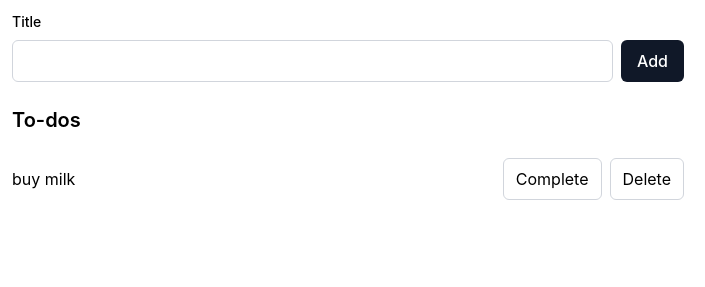
Scenario: TodoItem › reports a failed stale-id refetch without claiming the list refreshed
What coordinates should you click on to do the following:
click the button with aria-label "Delete buy milk"
I would click on:
 (647, 179)
Its box is [610,158,684,200].
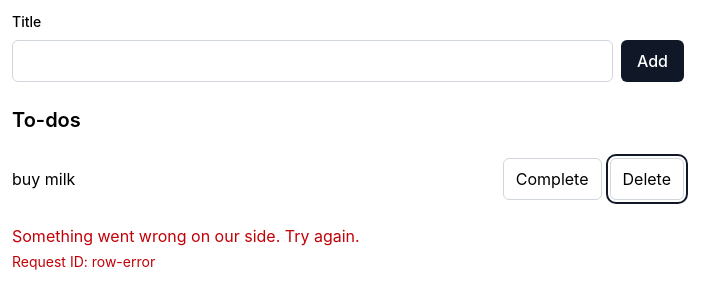
Expected: the text "buy milk" is shown, [12,169,75,189]
Result: the message shows "Request ID: row-error" at [12,226,360,270]
